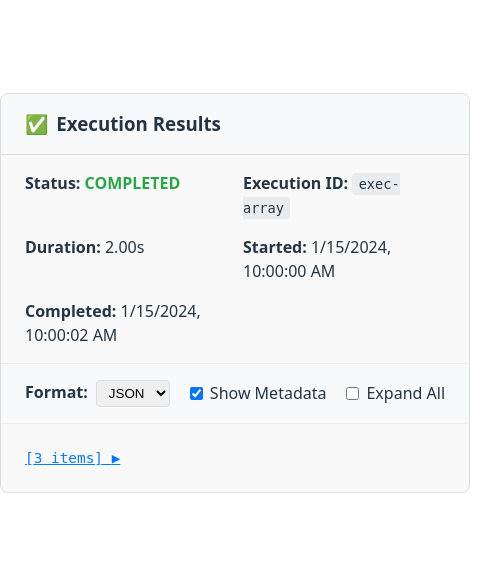
WorkflowExecutionResults › renders table view for array data
// Switch to table format
Select "Table" in the dropdown showing "JSON": (133, 394) [96,380,170,407]
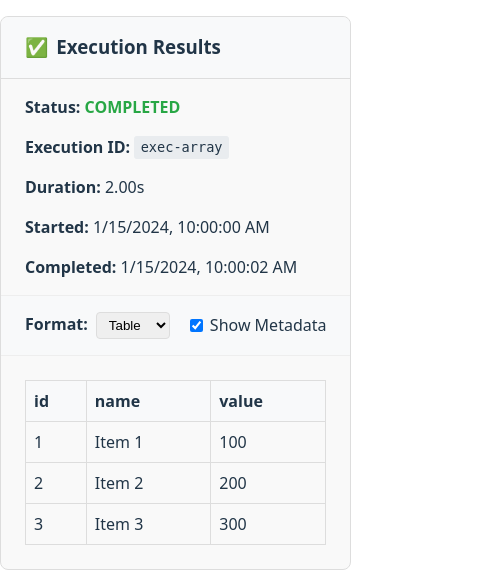
Check: the column heading "id" is shown, box [26,380,86,421]
Check: the column heading "name" is shown, box [86,380,211,421]
Check: the column heading "value" is shown, box [211,380,326,421]
